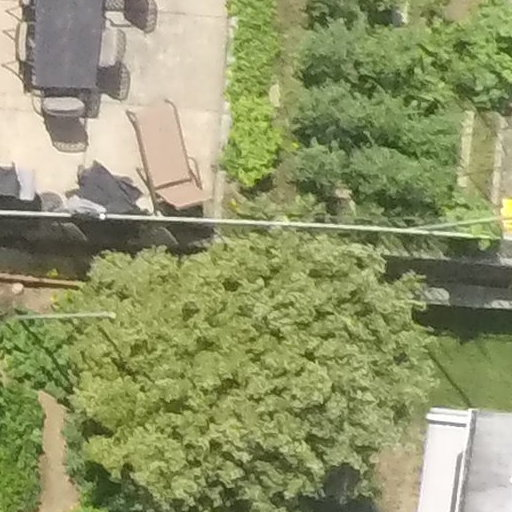chair: (121, 95, 218, 223), (36, 86, 103, 126), (90, 23, 133, 70), (3, 21, 41, 72)
table: (15, 1, 119, 104)
